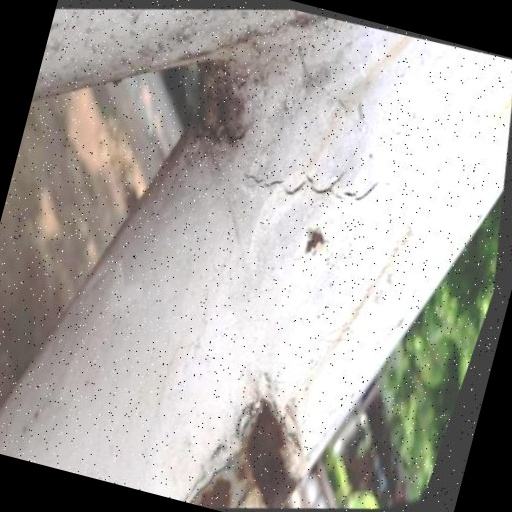crack: (224, 123, 409, 247)
